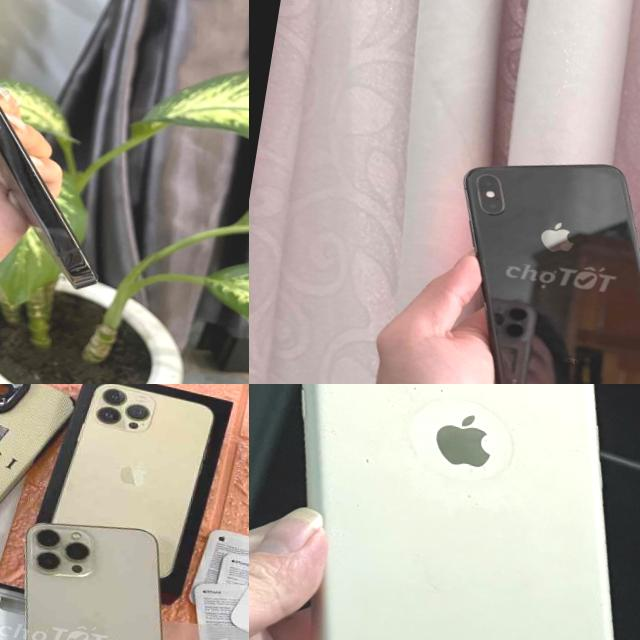gen_12_13: (0, 0, 160, 301), (0, 509, 210, 640)
gen_6: (249, 384, 640, 640)
gen_x_xs: (421, 139, 640, 384)
